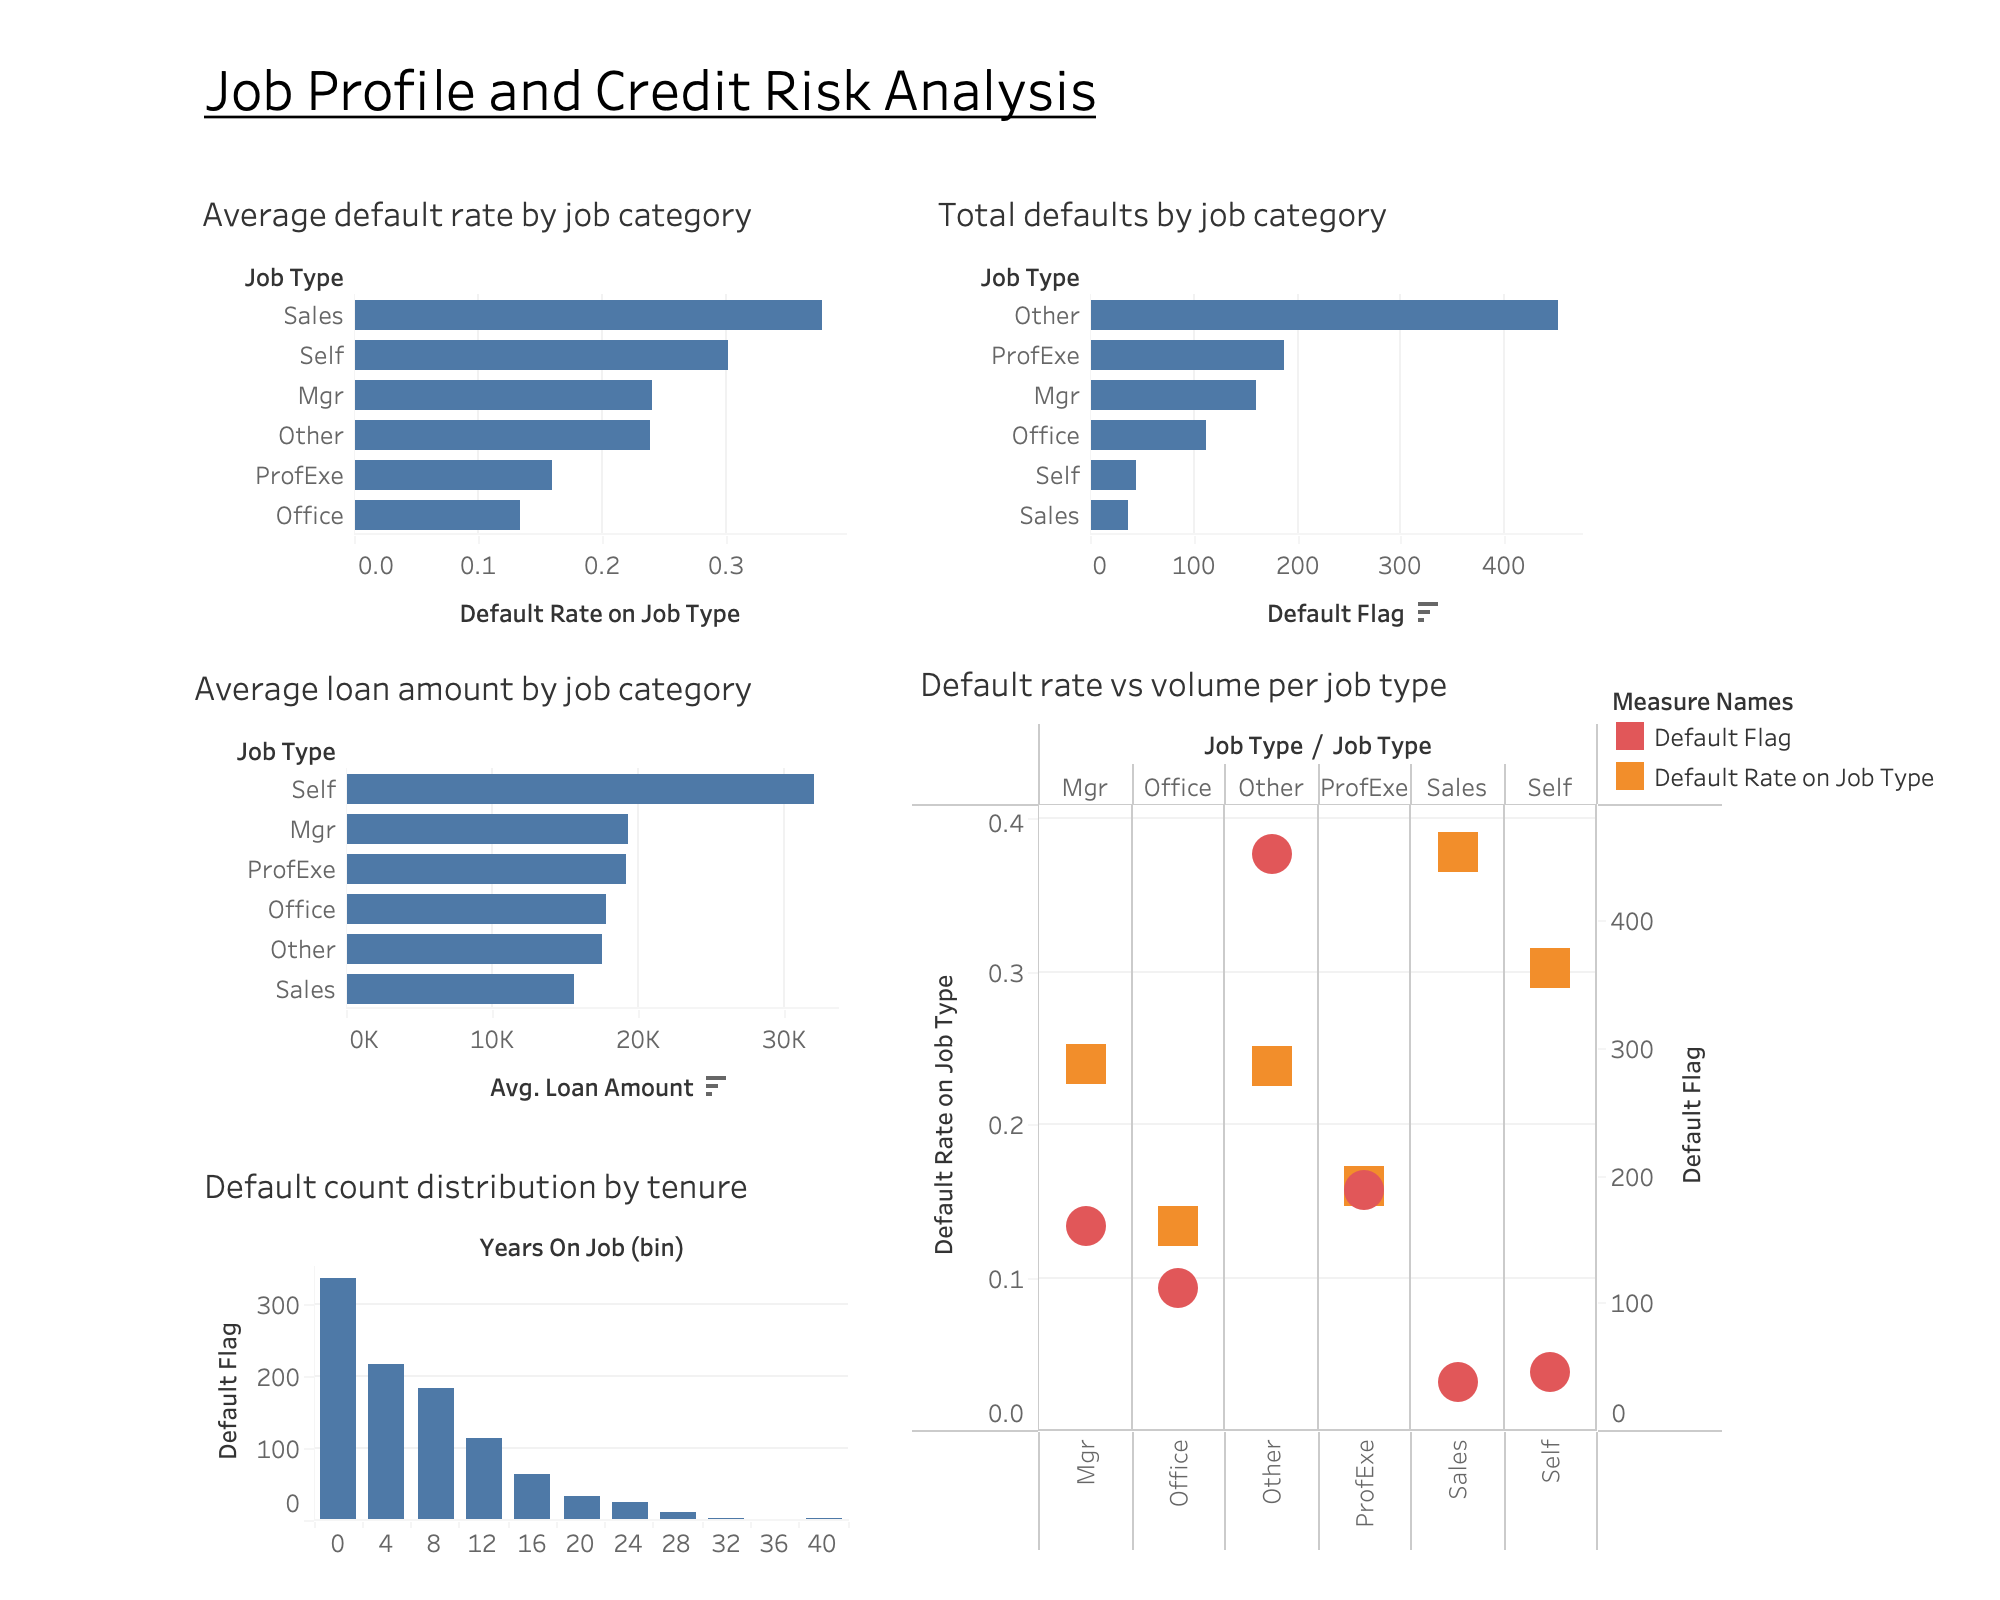

The page's visual inventory and layout, read from the dashboard file:
{"tool":"tableau","page":{"name":"Default on Job Type","canvas":[1000,800],"ordinal":2},"visuals":[{"type":"text","box":[100,20,607,49]},{"type":"worksheet","title":"Job Type %","mark":"Automatic","rows":["job_type"],"cols":["Calculation_208784088260337667"],"box":[97,89,326,269]},{"type":"worksheet","title":"Job Type Sum","mark":"Automatic","rows":["job_type"],"cols":["default_flag"],"box":[465,89,326,261]},{"type":"worksheet","title":"Job %nSum","mark":"Automatic","rows":["Calculation_208784088260337667","default_flag"],"cols":["job_type","job_type"],"box":[456,324,406,452]},{"type":"worksheet","title":"Job Loan Amount","mark":"Automatic","rows":["job_type"],"cols":["loan_amount"],"box":[93,326,326,278]},{"type":"legend","title":"Job %nSum","param":"[federated.0m3ud0x0xd8ejk149ppzg0c32j39].[:Measure Names]","box":[805,340,167,58]},{"type":"worksheet","title":"Years on Job","mark":"Automatic","rows":["default_flag"],"cols":["Years On Job (bin)"],"box":[98,575,326,206]}]}

Visuals, with their boxes in screenshot pixels (x1, y1, x2, y2), scaled from the page's 1000x800 canvas onto the 2000x1600 screenshot:
text: l=200, t=40, r=1414, b=138
"Job Type %" worksheet: l=194, t=178, r=846, b=716
"Job Type Sum" worksheet: l=930, t=178, r=1582, b=700
"Job %nSum" worksheet: l=912, t=648, r=1724, b=1552
"Job Loan Amount" worksheet: l=186, t=652, r=838, b=1208
"Job %nSum" legend: l=1610, t=680, r=1944, b=796
"Years on Job" worksheet: l=196, t=1150, r=848, b=1562
